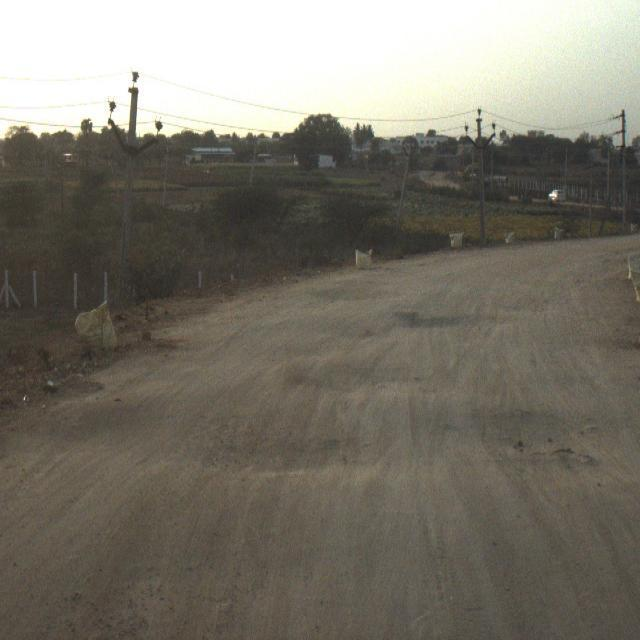Pothole: (3, 558, 241, 639), (168, 417, 372, 477), (500, 398, 610, 478), (267, 355, 420, 399), (372, 278, 454, 339)
